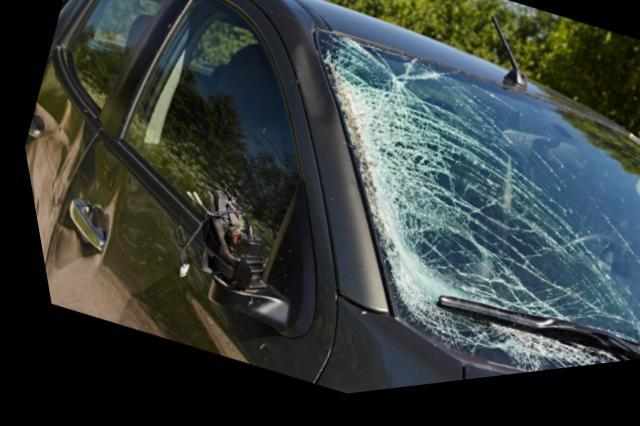dent: (39, 140, 118, 290), (21, 97, 79, 217)
glass shatter: (313, 39, 640, 383)
